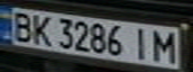2: (69, 18, 90, 53)
3: (51, 16, 75, 51)
6: (106, 23, 130, 57)
8: (87, 20, 109, 55)
B: (6, 10, 36, 43)
I: (127, 26, 154, 61)
K: (27, 12, 54, 47)
M: (148, 28, 184, 63)
